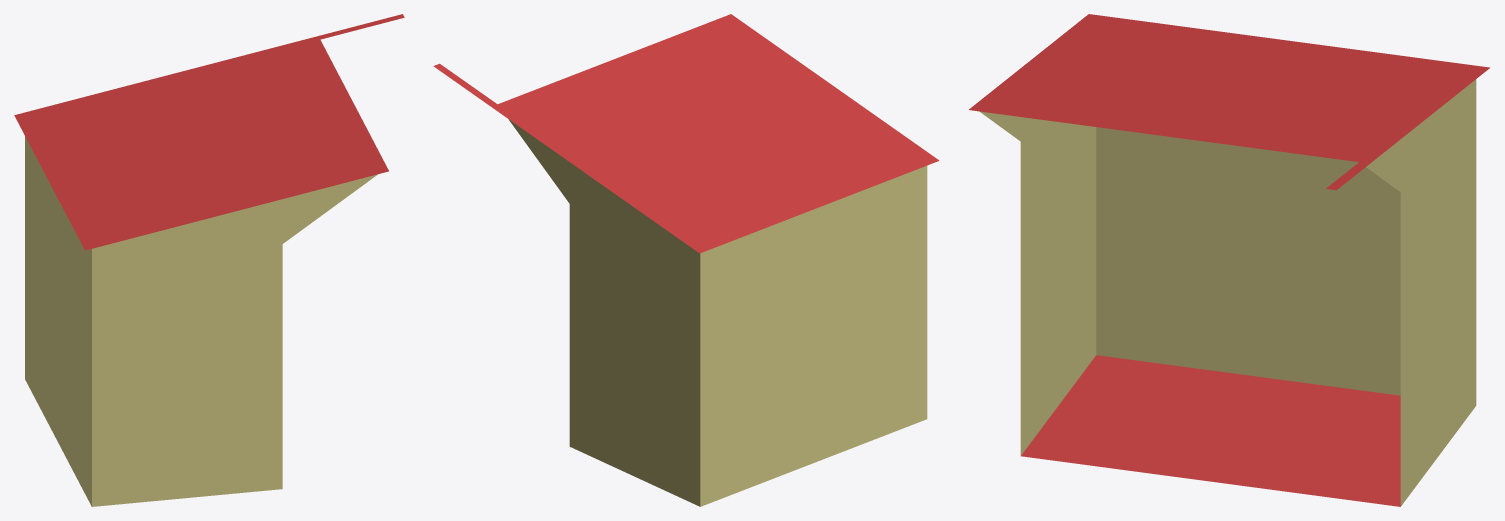
3 renders of one model, left to right at view 1: azimuth 30°, elevation 25°; view 2: azimuth 150°, elevation 25°; view 3: azimuth 270°, elevation 25°, orthographic. The views are drawn at different scales.
Bounding box in the file's own units: 13.39 × 11.38 × 10.06.
